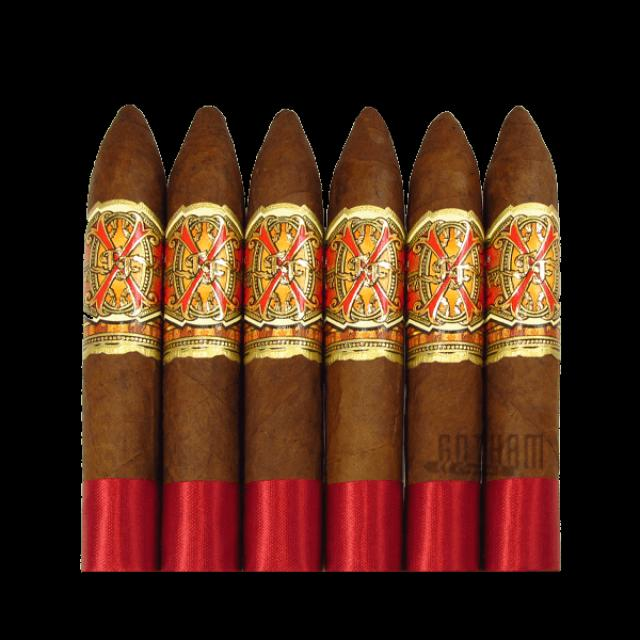Arturo Fuente: (83, 200, 164, 326), (164, 202, 243, 331), (326, 207, 406, 333), (244, 202, 322, 330), (406, 208, 484, 335), (484, 202, 560, 330)
